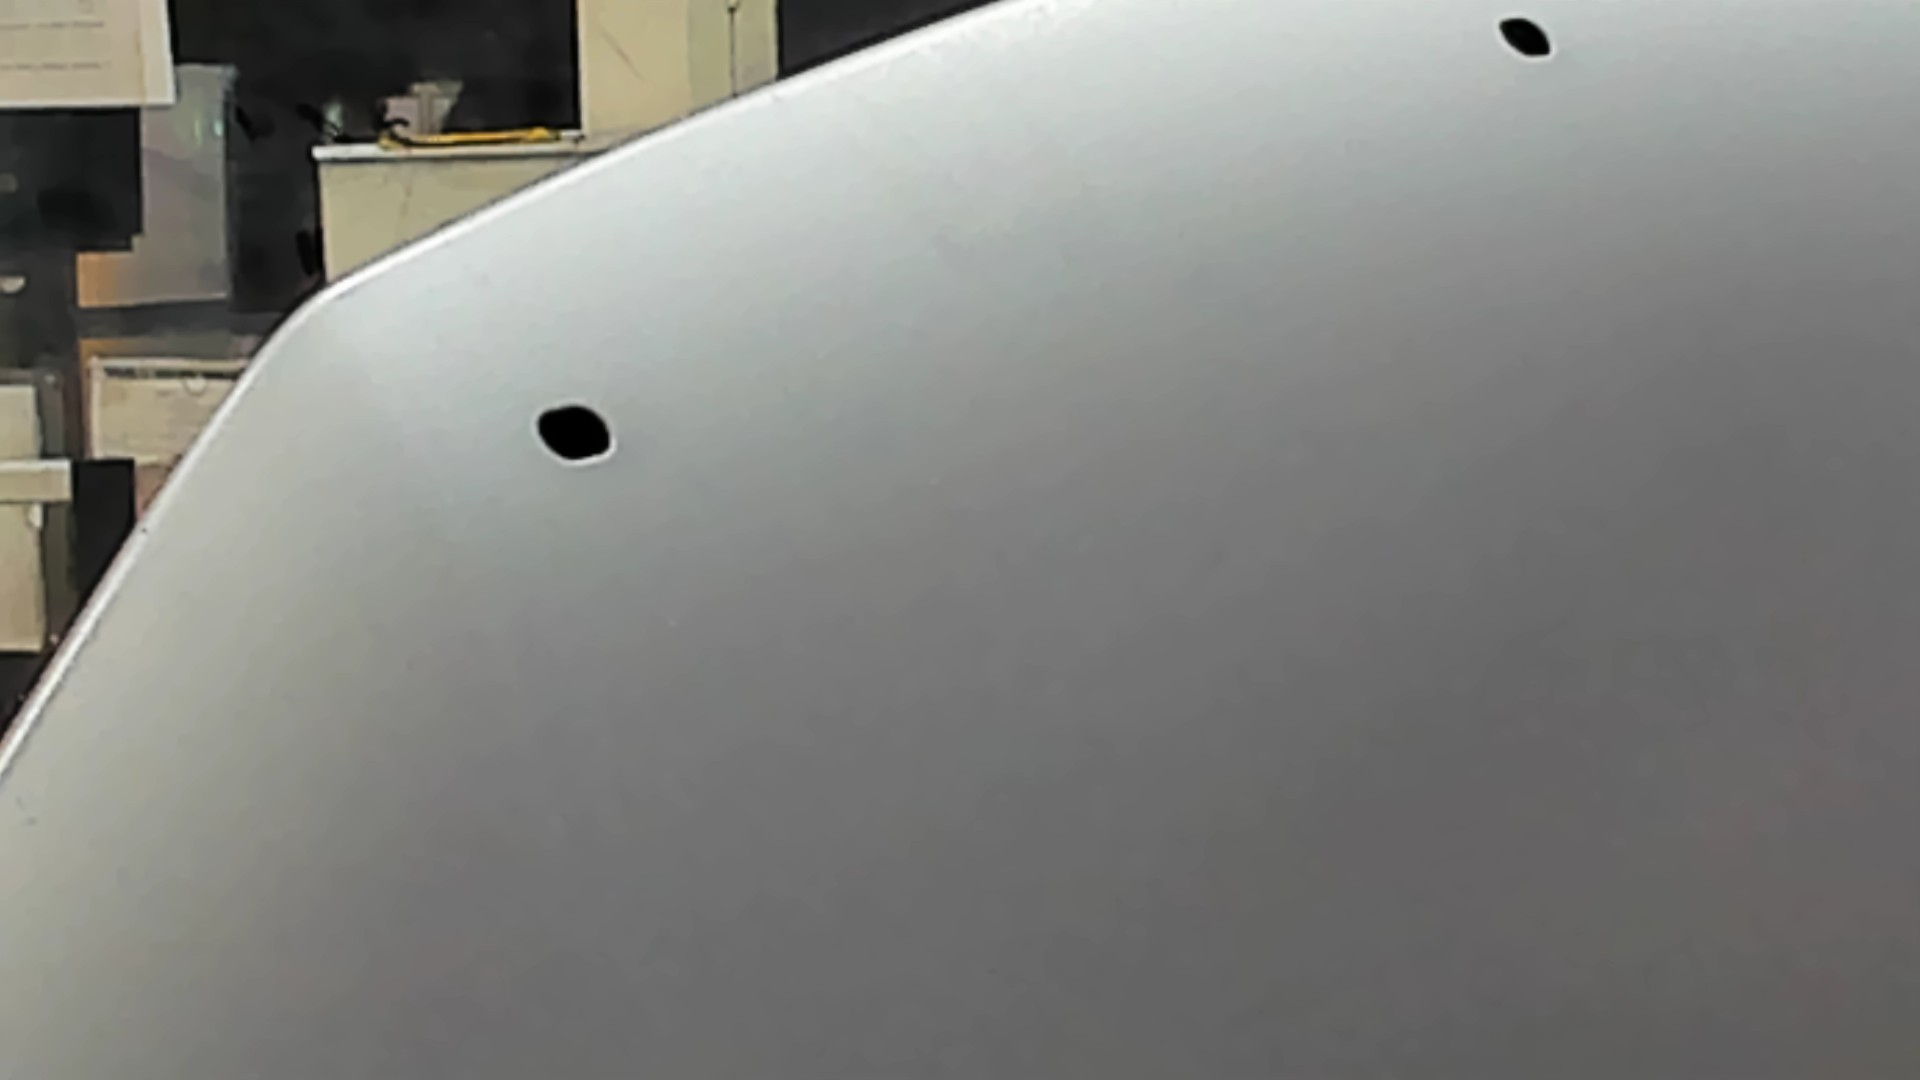Agujero: (531, 400, 617, 464), (1491, 11, 1557, 61)
